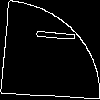I: (25, 25, 76, 44)
